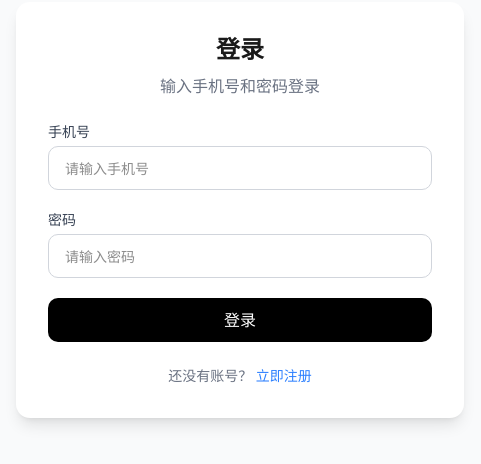
it: LoginPage › 凭据错误时显示服务端消息
The width and height of the screenshot is (481, 464).
Step 1. Type "13800138000" into the field with placeholder "请输入手机号" → (240, 168), box x1=48 y1=146 x2=432 y2=190
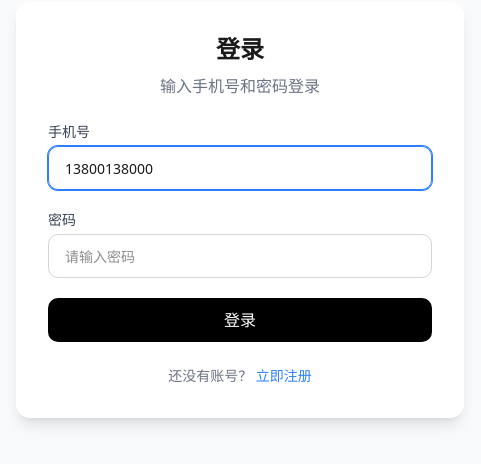
Step 2. Type "123456" into the password field with placeholder "请输入密码" → (240, 256), box x1=48 y1=234 x2=432 y2=278
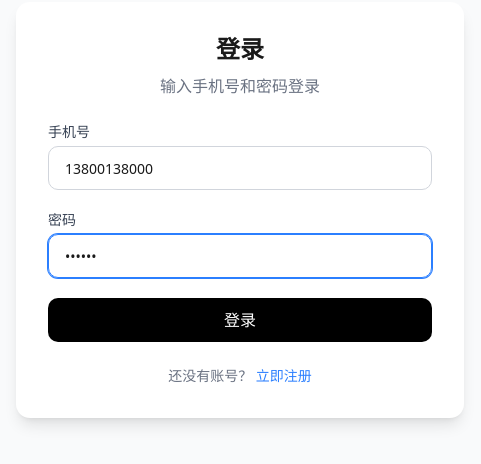
Step 3. Click the button "登录" → (240, 320), box x1=48 y1=298 x2=432 y2=342
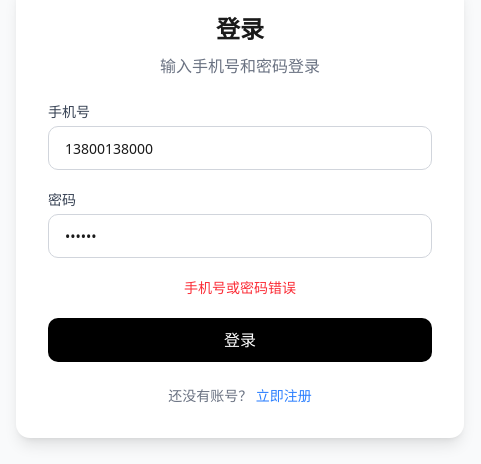
Check: the text "手机号或密码错误" is shown, box x1=184 y1=278 x2=296 y2=297
